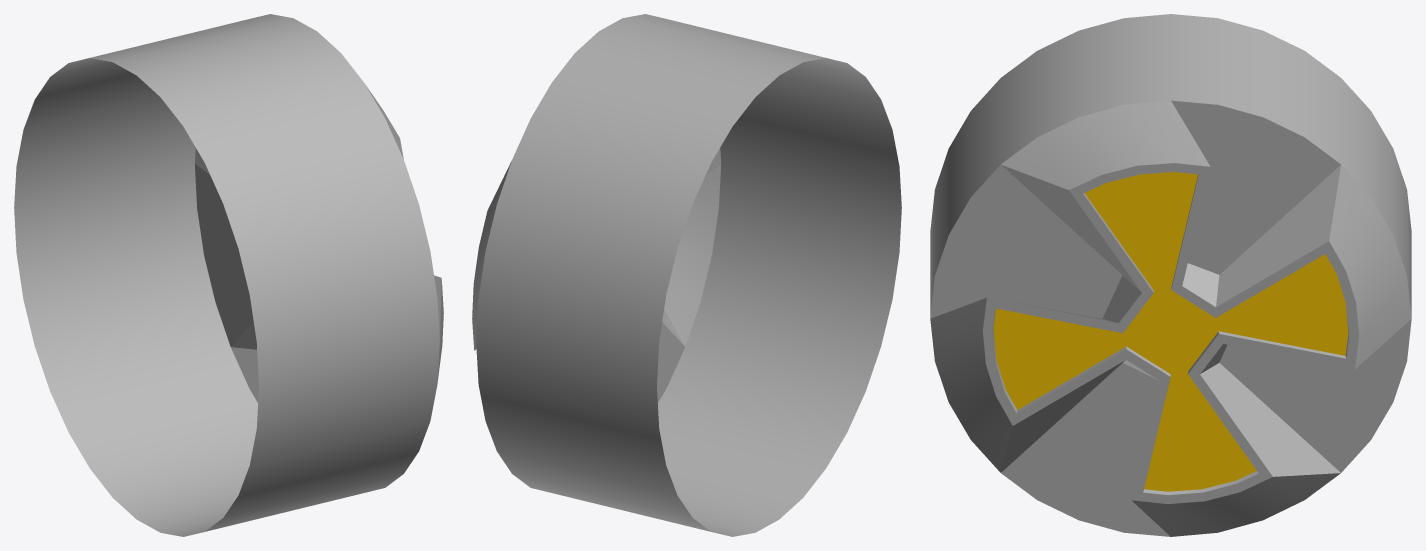
Rendered from OffRoad Left  Wheel.fbx.
3 views of the same model, side by side, from view 1: azimuth 30°, elevation 25°; view 2: azimuth 150°, elevation 25°; view 3: azimuth 270°, elevation 25° (orthographic).
Visible parts, largest first — view 1: OffRoad Left Van Wheel; view 2: OffRoad Left Van Wheel; view 3: OffRoad Left Van Wheel.
Boxes of the visible parts, x1,y1,x2,y2 form: OffRoad Left Van Wheel: (14, 14, 443, 536); OffRoad Left Van Wheel: (472, 14, 901, 536); OffRoad Left Van Wheel: (930, 14, 1411, 536).
Bounding box in the file's own units: 0.3315 × 0.6652 × 0.6652.
